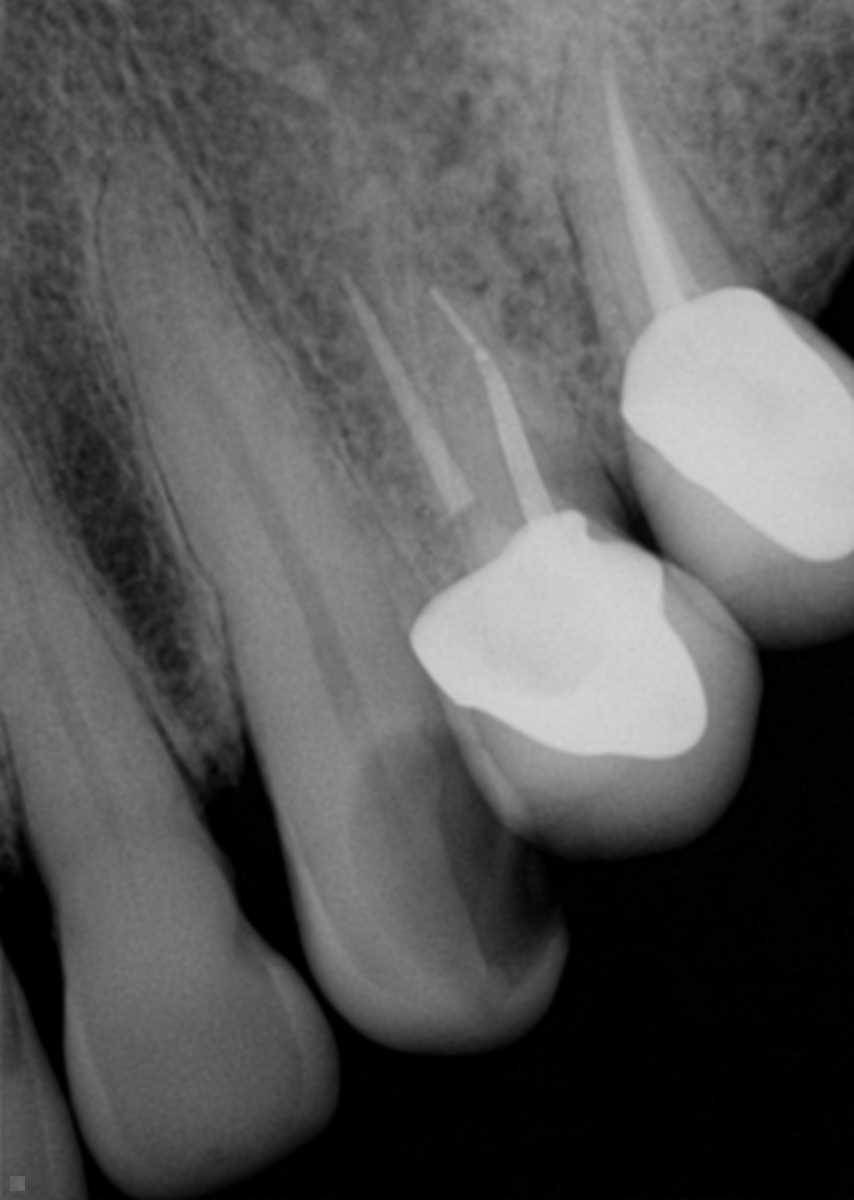Main Canal: (141, 168, 358, 704), (6, 552, 121, 839)
Main Root: (95, 133, 436, 732), (339, 224, 619, 625), (0, 418, 192, 867), (547, 25, 741, 356)
Root Canal Filling: (345, 280, 472, 525), (600, 58, 701, 324), (482, 362, 554, 537)
decay: (348, 711, 563, 1001)
